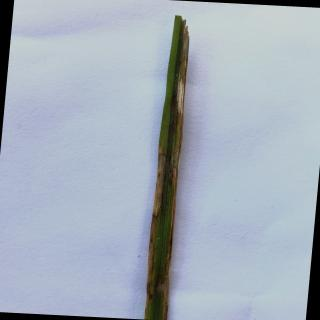Hawar-Daun: (148, 29, 190, 214), (146, 214, 157, 317), (160, 243, 172, 319)
